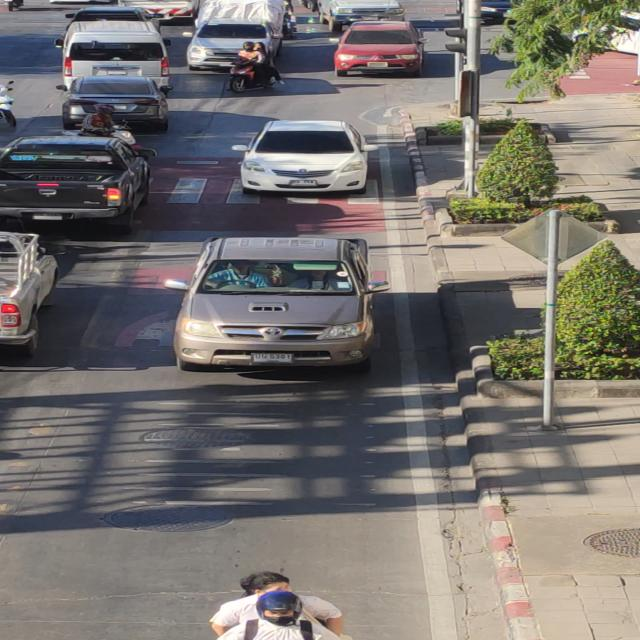car: (161, 238, 390, 368), (226, 106, 381, 212)
